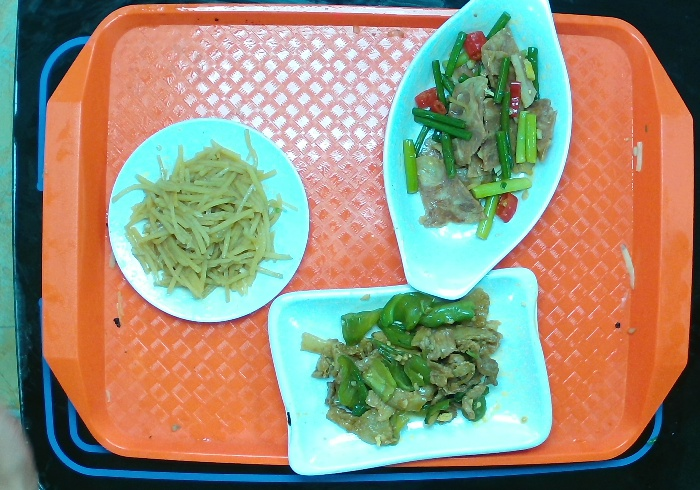RJxy-Si_Fang_Ao_Bian_Wan: (259, 261, 566, 484)
RJxy-Xiao_Yuan_Die: (102, 117, 321, 323)
RJxy-Yu_Pan: (381, 1, 584, 301)
